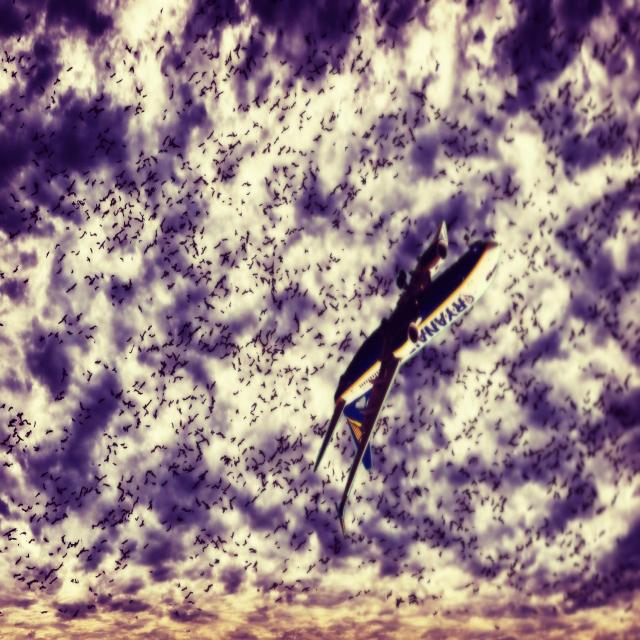airplane: (313, 219, 502, 538)
